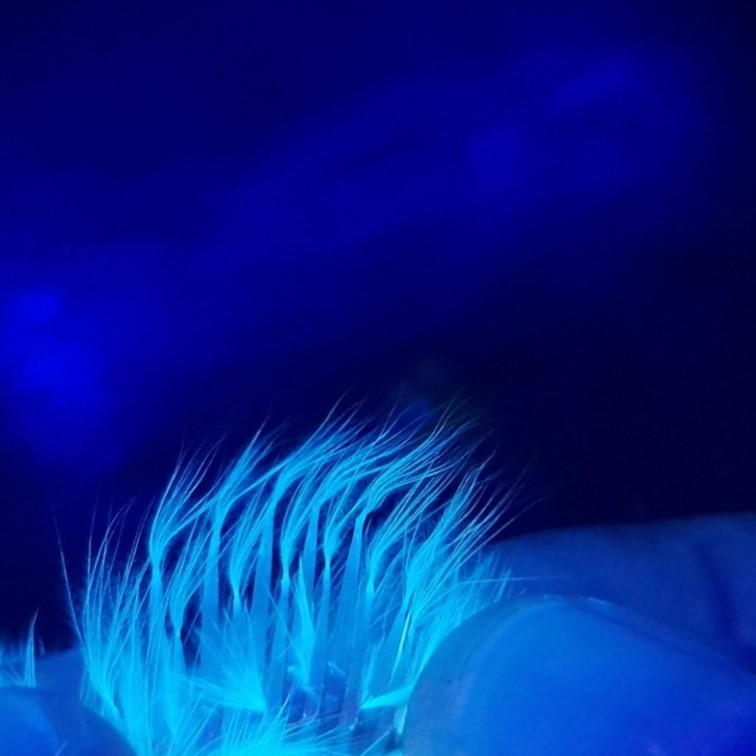female: (124, 486, 434, 756)
